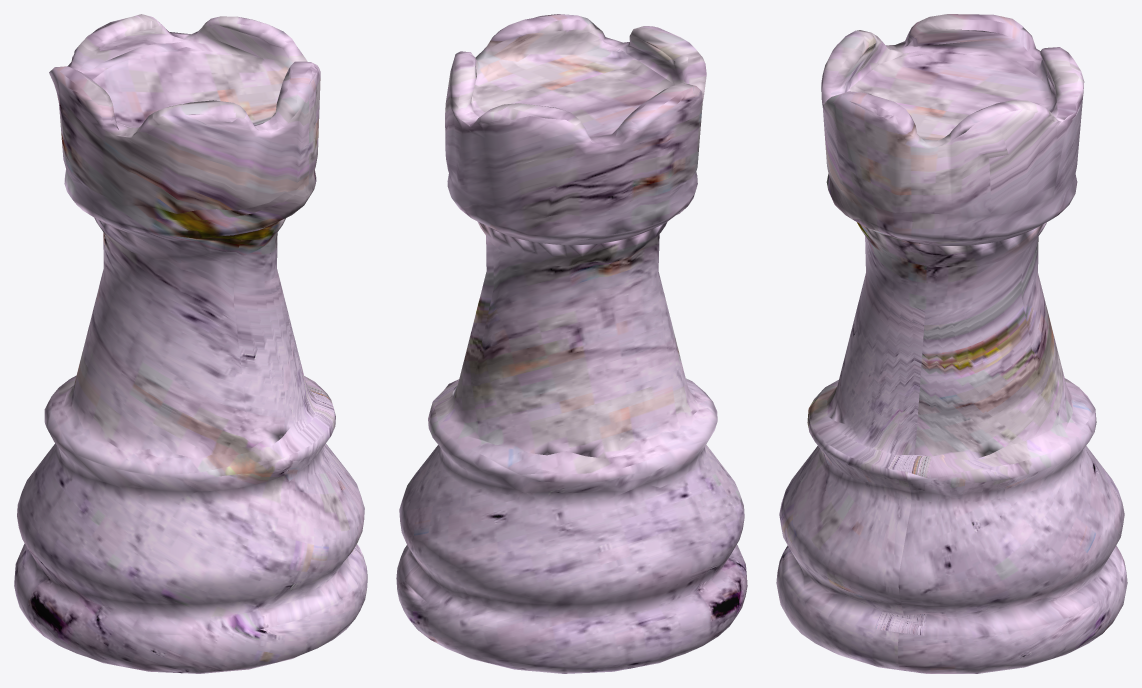
The model's file is white_rook.glb.
The picture shows the model from 3 angles, left to right: view 1: azimuth 30°, elevation 25°; view 2: azimuth 150°, elevation 25°; view 3: azimuth 270°, elevation 25°; orthographic projection.
Visible parts, largest first — view 1: Circle.024; view 2: Circle.024; view 3: Circle.024.
Boxes of the visible parts, x1,y1,x2,y2 form: Circle.024: (14, 14, 367, 673); Circle.024: (396, 14, 747, 673); Circle.024: (776, 14, 1127, 673).
Bounding box in the file's own units: 1.25 × 2.14 × 1.25.
Materials: 1 (1 with a texture image).
